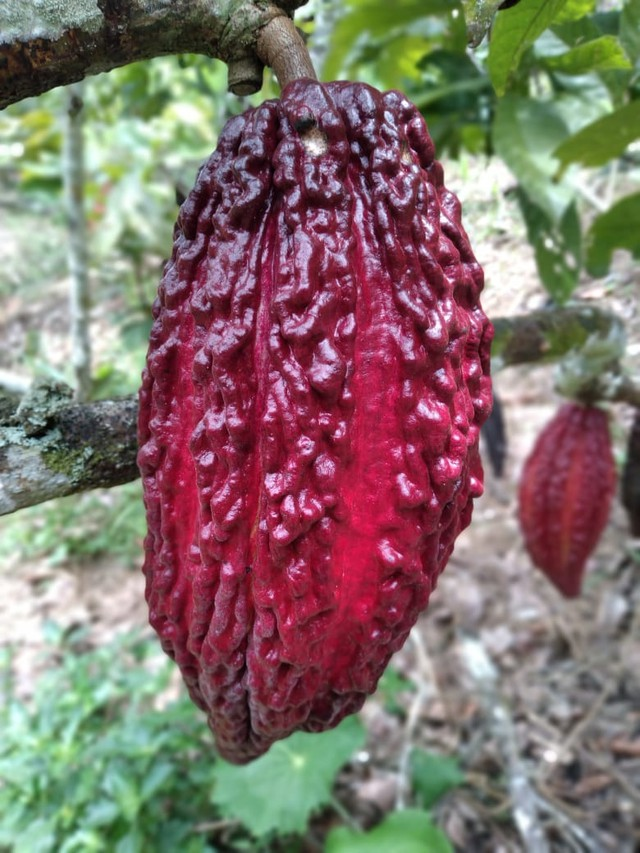Health: (126, 75, 499, 768)
